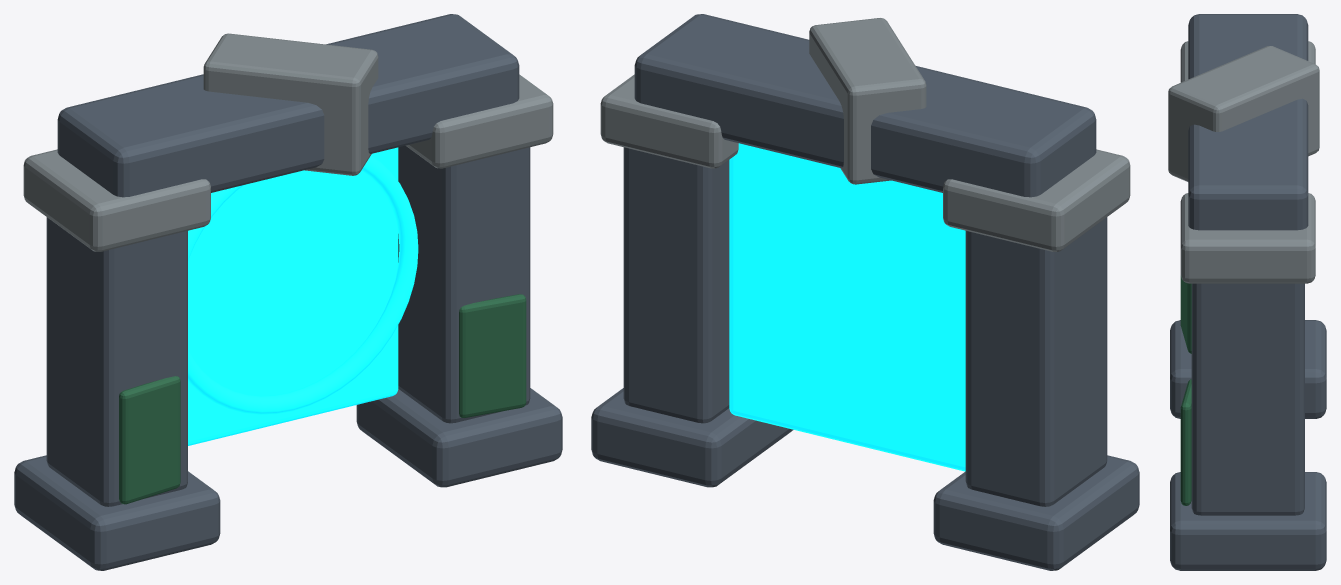
The model's file is portal_arch_draco.glb.
3 views of the same model, side by side, from view 1: azimuth 30°, elevation 25°; view 2: azimuth 150°, elevation 25°; view 3: azimuth 270°, elevation 25° (orthographic). The views are drawn at different scales.
Visible parts, largest first — view 1: Portal_LeftBase, Portal_Field, Portal_Keystone, Portal_MossPatch_01, Portal_RuneRing; view 2: Portal_LeftBase, Portal_Field, Portal_Keystone; view 3: Portal_LeftBase, Portal_Keystone, Portal_MossPatch_01.
Part boxes in pixels (left/top/right/bottom): Portal_LeftBase: left=14, top=14, right=562, bottom=570; Portal_Field: left=188, top=147, right=398, bottom=445; Portal_Keystone: left=23, top=33, right=553, bottom=251; Portal_MossPatch_01: left=119, top=294, right=526, bottom=504; Portal_RuneRing: left=188, top=155, right=418, bottom=414; Portal_LeftBase: left=591, top=14, right=1139, bottom=570; Portal_Field: left=729, top=143, right=965, bottom=471; Portal_Keystone: left=600, top=18, right=1130, bottom=251; Portal_LeftBase: left=1170, top=14, right=1326, bottom=570; Portal_Keystone: left=1168, top=41, right=1319, bottom=283; Portal_MossPatch_01: left=1180, top=275, right=1191, bottom=505.
Size of the model in its own units: 4.54 by 4 by 1.45.
